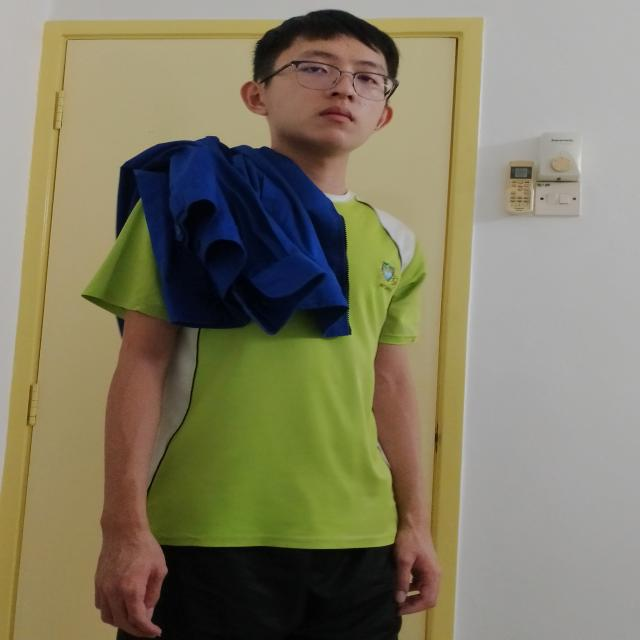person_without_labcoat: (86, 10, 440, 640)
